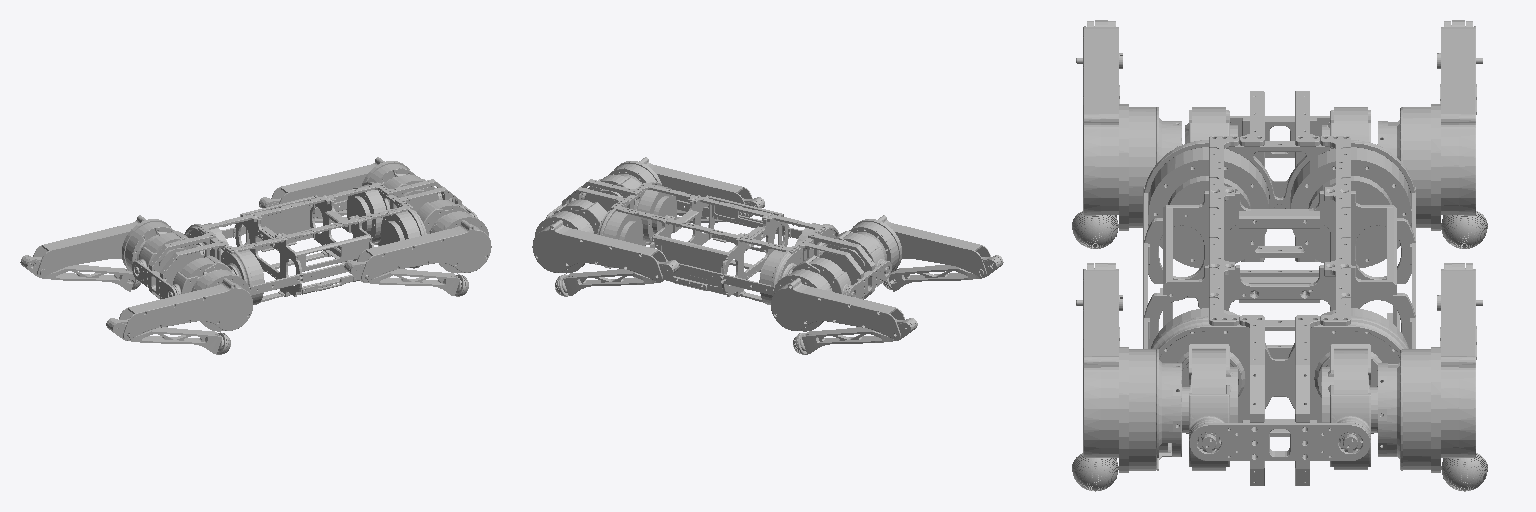
The robot description file, URDF, robot "xiaotianhybrid":
<?xml version="1.0" encoding="utf-8"?>
<!-- This URDF was automatically created by SolidWorks to URDF Exporter! Originally created by [author] ([email redacted]) 
     Commit Version: 1.6.0-1-g15f4949  Build Version: 1.6.7594.29634
     For more information, please see http://wiki.ros.org/sw_urdf_exporter -->
<robot
  name="xiaotianhybrid">
  <link
    name="root_link">
    <visual>
      <origin
        xyz="0 0 0"
        rpy="0 0 0" />
      <geometry>
        <mesh
          filename="../meshes/base_link.dae" />
      </geometry>
      <material
        name="">
        <color
          rgba="0.75294 0.75294 0.75294 1" />
      </material>
    </visual>
  </link>
  <joint name="floating_base" type="fixed">
    <origin rpy="0 0 0" xyz="0 0 0"/>
    <parent link="root_link"/>
    <child link="base_link"/>
  </joint>
  <link
    name="base_link">
    <inertial>
      <origin
        xyz="-7.7053E-05 7.7376E-05 0.00036296"
        rpy="0 0 0" />
      <mass
        value="9.75" />
      <inertia
        ixx="0.06748912868"
        ixy="-3.52976E-06"
        ixz="-3.127057E-05"
        iyy="0.37865856173"
        iyz="-1.255037E-04"
        izz="0.42080290194" />
    </inertial>
    <visual>
      <origin
        xyz="0 0 0"
        rpy="0 0 0" />
      <geometry>
        <mesh
          filename="../meshes/base_link.dae" />
      </geometry>
      <material
        name="">
        <color
          rgba="0.75294 0.75294 0.75294 1" />
      </material>
    </visual>
    <collision>
      <origin
        xyz="0 0 0"
        rpy="0 0 0" />
      <geometry>
        <mesh
          filename="../meshes/base_link.dae" />
      </geometry>
    </collision>
  </link>
  <link
    name="fl_hip">
    <inertial>
      <origin
        xyz="-0.0016893 -0.0029367 -3.0057E-06"
        rpy="0 0 0" />
      <mass
        value="1.54" />
      <inertia
        ixx="1.52680337E-03"
        ixy="-1.029307E-05"
        ixz="1.6398E-07"
        iyy="3.15232762E-03"
        iyz="7.688E-08"
        izz="2.12898618E-03" />
    </inertial>
    <visual>
      <origin
        xyz="0 0 0"
        rpy="0 0 0" />
      <geometry>
        <mesh
          filename="../meshes/fl_hip.dae" />
      </geometry>
      <material
        name="">
        <color
          rgba="0.75294 0.75294 0.75294 1" />
      </material>
    </visual>
    <collision>
      <origin
        xyz="0 0 0"
        rpy="0 0 0" />
      <geometry>
        <mesh
          filename="../meshes/fl_hip.dae" />
      </geometry>
    </collision>
  </link>
  <joint
    name="fl_hip_roll"
    type="revolute">
    <origin
      xyz="0.2836 0.07 0"
      rpy="0 0 0" />
    <parent
      link="base_link" />
    <child
      link="fl_hip" />
    <axis
      xyz="1 0 0" />
    <limit
      lower="-1.57"
      upper="1.57"
      effort="60"
      velocity="50" />
  </joint>
  <link
    name="fl_thigh">
    <inertial>
      <origin
        xyz="-0.028316 -0.031071 0.0039275"
        rpy="0 0 0" />
      <mass
        value="2.36" />
      <inertia
        ixx="3.46290856E-03"
        ixy="-2.26995497E-03"
        ixz="-1.17364736E-03"
        iyy="0.01481869313"
        iyz="3.379065E-04"
        izz="0.01458648397" />
    </inertial>
    <visual>
      <origin
        xyz="0 0 0"
        rpy="0 0 0" />
      <geometry>
        <mesh
          filename="../meshes/fl_thigh.dae" />
      </geometry>
      <material
        name="">
        <color
          rgba="0.75294 0.75294 0.75294 1" />
      </material>
    </visual>
    <collision>
      <origin
        xyz="0 0 0"
        rpy="0 0 0" />
      <geometry>
        <mesh
          filename="../meshes/fl_thigh.dae" />
      </geometry>
    </collision>
  </link>
  <joint
    name="fl_hip_pitch"
    type="revolute">
    <origin
      xyz="0 0.1068 0"
      rpy="0 0 0" />
    <parent
      link="fl_hip" />
    <child
      link="fl_thigh" />
    <axis
      xyz="0 1 0" />
    <limit
      lower="-3.14159"
      upper="0"
      effort="60"
      velocity="50" />
  </joint>
  <link
    name="fl_calf">
    <inertial>
      <origin
        xyz="0.093372 -0.00013169 -0.028991"
        rpy="0 0 0" />
      <mass
        value="0.34" />
      <inertia
        ixx="3.0269843E-04"
        ixy="-1.338546E-05"
        ixz="-7.1298417E-04"
        iyy="2.3845227E-03"
        iyz="5.1477E-06"
        izz="2.13302968E-03" />
    </inertial>
    <visual>
      <origin
        xyz="0 0 0"
        rpy="0 0 0" />
      <geometry>
        <mesh
          filename="../meshes/fl_calf.dae" />
      </geometry>
      <material
        name="">
        <color
          rgba="0.75294 0.75294 0.75294 1" />
      </material>
    </visual>
    <collision>
      <origin
        xyz="0 0 0"
        rpy="0 0 0" />
      <geometry>
        <mesh
          filename="../meshes/fl_calf.dae" />
      </geometry>
    </collision>
  </link>
  <joint
    name="fl_knee"
    type="revolute">
    <origin
      xyz="-0.25 0 0"
      rpy="0 0 0" />
    <parent
      link="fl_thigh" />
    <child
      link="fl_calf" />
    <axis
      xyz="0 1 0" />
    <limit
      lower="0"
      upper="2"
      effort="60"
      velocity="50" />
  </joint>
  <link
    name="fl_wheel">
    <inertial>
      <origin
        xyz="0.0058473 2.1017E-05 -0.0021938"
        rpy="0 0 0" />
      <mass
        value="0.04" />
      <inertia
        ixx="7.55709E-06"
        ixy="-1.483E-08"
        ixz="-5.444E-08"
        iyy="7.92521E-06"
        iyz="5.58E-09"
        izz="7.68177E-06" />
    </inertial>
    <visual>
      <origin
        xyz="0 0 0"
        rpy="0 0 0" />
      <geometry>
        <mesh
          filename="../meshes/fl_wheel.dae" />
      </geometry>
      <material
        name="">
        <color
          rgba="0.75294 0.75294 0.75294 1" />
      </material>
    </visual>
    <collision>
      <origin
        xyz="0 0 0"
        rpy="0 0 0" />
      <geometry>
        <mesh
          filename="../meshes/fl_wheel.dae" />
      </geometry>
    </collision>
  </link>
  <joint
    name="fl_wheel"
    type="fixed">
    <origin
      xyz="0.22123 0.005936 -0.074762"
      rpy="0 0 0" />
    <parent
      link="fl_calf" />
    <child
      link="fl_wheel" />
    <axis
      xyz="0 0 0" />
  </joint>
  <link
    name="fr_hip">
    <inertial>
      <origin
        xyz="-0.0016893 0.0029367 3.0058E-06"
        rpy="0 0 0" />
      <mass
        value="1.54" />
      <inertia
        ixx="1.52680337E-03"
        ixy="1.029307E-05"
        ixz="-1.6398E-07"
        iyy="3.15232762E-03"
        iyz="7.688E-08"
        izz="2.12898618E-03" />
    </inertial>
    <visual>
      <origin
        xyz="0 0 0"
        rpy="0 0 0" />
      <geometry>
        <mesh
          filename="../meshes/fr_hip.dae" />
      </geometry>
      <material
        name="">
        <color
          rgba="0.75294 0.75294 0.75294 1" />
      </material>
    </visual>
    <collision>
      <origin
        xyz="0 0 0"
        rpy="0 0 0" />
      <geometry>
        <mesh
          filename="../meshes/fr_hip.dae" />
      </geometry>
    </collision>
  </link>
  <joint
    name="fr_hip_roll"
    type="revolute">
    <origin
      xyz="0.2836 -0.07 0"
      rpy="0 0 0" />
    <parent
      link="base_link" />
    <child
      link="fr_hip" />
    <axis
      xyz="1 0 0" />
    <limit
      lower="-1.57"
      upper="1.57"
      effort="60"
      velocity="50" />
  </joint>
  <link
    name="fr_thigh">
    <inertial>
      <origin
        xyz="-0.028482 0.031071 0.0041762"
        rpy="0 0 0" />
      <mass
        value="2.36" />
      <inertia
        ixx="3.46575714E-03"
        ixy="2.25594763E-03"
        ixz="-1.14504693E-03"
        iyy="0.0147819027"
        iyz="-3.1700791E-04"
        izz="0.0145468491" />
    </inertial>
    <visual>
      <origin
        xyz="0 0 0"
        rpy="0 0 0" />
      <geometry>
        <mesh
          filename="../meshes/fr_thigh.dae" />
      </geometry>
      <material
        name="">
        <color
          rgba="0.75294 0.75294 0.75294 1" />
      </material>
    </visual>
    <collision>
      <origin
        xyz="0 0 0"
        rpy="0 0 0" />
      <geometry>
        <mesh
          filename="../meshes/fr_thigh.dae" />
      </geometry>
    </collision>
  </link>
  <joint
    name="fr_hip_pitch"
    type="revolute">
    <origin
      xyz="0 -0.1068 0"
      rpy="0 0 0" />
    <parent
      link="fr_hip" />
    <child
      link="fr_thigh" />
    <axis
      xyz="0 1 0" />
    <limit
      lower="-3.14159"
      upper="0"
      effort="60"
      velocity="50" />
  </joint>
  <link
    name="fr_calf">
    <inertial>
      <origin
        xyz="0.093372 0.00033168 -0.028991"
        rpy="0 0 0" />
      <mass
        value="0.34" />
      <inertia
        ixx="3.0269842E-04"
        ixy="-1.33854E-05"
        ixz="-7.1298419E-04"
        iyy="2.38452279E-03"
        iyz="5.14768E-06"
        izz="2.13302979E-03" />
    </inertial>
    <visual>
      <origin
        xyz="0 0 0"
        rpy="0 0 0" />
      <geometry>
        <mesh
          filename="../meshes/fr_calf.dae" />
      </geometry>
      <material
        name="">
        <color
          rgba="0.75294 0.75294 0.75294 1" />
      </material>
    </visual>
    <collision>
      <origin
        xyz="0 0 0"
        rpy="0 0 0" />
      <geometry>
        <mesh
          filename="../meshes/fr_calf.dae" />
      </geometry>
    </collision>
  </link>
  <joint
    name="fr_knee"
    type="revolute">
    <origin
      xyz="-0.25 0 0"
      rpy="0 0 0" />
    <parent
      link="fr_thigh" />
    <child
      link="fr_calf" />
    <axis
      xyz="0 1 0" />
    <limit
      lower="0"
      upper="2"
      effort="60"
      velocity="50" />
  </joint>
  <link
    name="fr_wheel">
    <inertial>
      <origin
        xyz="0.0058473 -2.1023E-05 -0.0021939"
        rpy="0 0 0" />
      <mass
        value="0.04" />
      <inertia
        ixx="7.55709E-06"
        ixy="1.484E-08"
        ixz="-5.444E-08"
        iyy="7.92521E-06"
        iyz="-5.56E-09"
        izz="7.68177E-06" />
    </inertial>
    <visual>
      <origin
        xyz="0 0 0"
        rpy="0 0 0" />
      <geometry>
        <mesh
          filename="../meshes/fr_wheel.dae" />
      </geometry>
      <material
        name="">
        <color
          rgba="0.75294 0.75294 0.75294 1" />
      </material>
    </visual>
    <collision>
      <origin
        xyz="0 0 0"
        rpy="0 0 0" />
      <geometry>
        <mesh
          filename="../meshes/fr_wheel.dae" />
      </geometry>
    </collision>
  </link>
  <joint
    name="fr_wheel"
    type="fixed">
    <origin
      xyz="0.22123 -0.005736 -0.074762"
      rpy="0 0 0" />
    <parent
      link="fr_calf" />
    <child
      link="fr_wheel" />
    <axis
      xyz="0 0 0" />
  </joint>
  <link
    name="rl_hip">
    <inertial>
      <origin
        xyz="0.0016893 -0.0029367 3.0056E-06"
        rpy="0 0 0" />
      <mass
        value="1.54" />
      <inertia
        ixx="1.52680337E-03"
        ixy="1.029307E-05"
        ixz="1.6398E-07"
        iyy="3.15232762E-03"
        iyz="-7.688E-08"
        izz="2.12898618E-03" />
    </inertial>
    <visual>
      <origin
        xyz="0 0 0"
        rpy="0 0 0" />
      <geometry>
        <mesh
          filename="../meshes/rl_hip.dae" />
      </geometry>
      <material
        name="">
        <color
          rgba="0.75294 0.75294 0.75294 1" />
      </material>
    </visual>
    <collision>
      <origin
        xyz="0 0 0"
        rpy="0 0 0" />
      <geometry>
        <mesh
          filename="../meshes/rl_hip.dae" />
      </geometry>
    </collision>
  </link>
  <joint
    name="rl_hip_roll"
    type="revolute">
    <origin
      xyz="-0.2836 0.07 0"
      rpy="0 0 0" />
    <parent
      link="base_link" />
    <child
      link="rl_hip" />
    <axis
      xyz="1 0 0" />
    <limit
      lower="-1.57"
      upper="1.57"
      effort="60"
      velocity="50" />
  </joint>
  <link
    name="rl_thigh">
    <inertial>
      <origin
        xyz="-0.028316 -0.031071 0.0039275"
        rpy="0 0 0" />
      <mass
        value="2.36" />
      <inertia
        ixx="3.46290856E-03"
        ixy="-2.26995497E-03"
        ixz="-1.17364736E-03"
        iyy="0.01481869313"
        iyz="3.379065E-04"
        izz="0.01458648397" />
    </inertial>
    <visual>
      <origin
        xyz="0 0 0"
        rpy="0 0 0" />
      <geometry>
        <mesh
          filename="../meshes/rl_thigh.dae" />
      </geometry>
      <material
        name="">
        <color
          rgba="0.75294 0.75294 0.75294 1" />
      </material>
    </visual>
    <collision>
      <origin
        xyz="0 0 0"
        rpy="0 0 0" />
      <geometry>
        <mesh
          filename="../meshes/rl_thigh.dae" />
      </geometry>
    </collision>
  </link>
  <joint
    name="rl_hip_pitch"
    type="revolute">
    <origin
      xyz="0 0.1068 0"
      rpy="0 0 0" />
    <parent
      link="rl_hip" />
    <child
      link="rl_thigh" />
    <axis
      xyz="0 1 0" />
    <limit
      lower="-3.14159"
      upper="0"
      effort="60"
      velocity="50" />
  </joint>
  <link
    name="rl_calf">
    <inertial>
      <origin
        xyz="0.093372 -0.00033169 -0.028991"
        rpy="0 0 0" />
      <mass
        value="0.34" />
      <inertia
        ixx="3.0269843E-04"
        ixy="-1.338546E-05"
        ixz="-7.1298417E-04"
        iyy="2.3845227E-03"
        iyz="5.1477E-06"
        izz="2.13302968E-03" />
    </inertial>
    <visual>
      <origin
        xyz="0 0 0"
        rpy="0 0 0" />
      <geometry>
        <mesh
          filename="../meshes/rl_calf.dae" />
      </geometry>
      <material
        name="">
        <color
          rgba="0.75294 0.75294 0.75294 1" />
      </material>
    </visual>
    <collision>
      <origin
        xyz="0 0 0"
        rpy="0 0 0" />
      <geometry>
        <mesh
          filename="../meshes/rl_calf.dae" />
      </geometry>
    </collision>
  </link>
  <joint
    name="rl_knee"
    type="revolute">
    <origin
      xyz="-0.25 0 0"
      rpy="0 0 0" />
    <parent
      link="rl_thigh" />
    <child
      link="rl_calf" />
    <axis
      xyz="0 1 0" />
    <limit
      lower="0"
      upper="2"
      effort="60"
      velocity="50" />
  </joint>
  <link
    name="rl_wheel">
    <inertial>
      <origin
        xyz="0.0058473 2.1017E-05 -0.0021938"
        rpy="0 0 0" />
      <mass
        value="0.04" />
      <inertia
        ixx="7.55709E-06"
        ixy="-1.483E-08"
        ixz="-5.444E-08"
        iyy="7.92521E-06"
        iyz="5.58E-09"
        izz="7.68177E-06" />
    </inertial>
    <visual>
      <origin
        xyz="0 0 0"
        rpy="0 0 0" />
      <geometry>
        <mesh
          filename="../meshes/rl_wheel.dae" />
      </geometry>
      <material
        name="">
        <color
          rgba="0.75294 0.75294 0.75294 1" />
      </material>
    </visual>
    <collision>
      <origin
        xyz="0 0 0"
        rpy="0 0 0" />
      <geometry>
        <mesh
          filename="../meshes/rl_wheel.dae" />
      </geometry>
    </collision>
  </link>
  <joint
    name="rl_wheel"
    type="fixed">
    <origin
      xyz="0.22123 0.005736 -0.074762"
      rpy="0 0 0" />
    <parent
      link="rl_calf" />
    <child
      link="rl_wheel" />
    <axis
      xyz="0 0 0" />
  </joint>
  <link
    name="rr_hip">
    <inertial>
      <origin
        xyz="0.0016893 0.0018904 3.0058E-06"
        rpy="0 0 0" />
      <mass
        value="1.54" />
      <inertia
        ixx="1.53532914E-03"
        ixy="-3.47255E-06"
        ixz="1.6398E-07"
        iyy="3.15232762E-03"
        iyz="-1.0138E-07"
        izz="2.13751195E-03" />
    </inertial>
    <visual>
      <origin
        xyz="0 0 0"
        rpy="0 0 0" />
      <geometry>
        <mesh
          filename="../meshes/rr_hip.dae" />
      </geometry>
      <material
        name="">
        <color
          rgba="0.75294 0.75294 0.75294 1" />
      </material>
    </visual>
    <collision>
      <origin
        xyz="0 0 0"
        rpy="0 0 0" />
      <geometry>
        <mesh
          filename="../meshes/rr_hip.dae" />
      </geometry>
    </collision>
  </link>
  <joint
    name="rr_hip_roll"
    type="revolute">
    <origin
      xyz="-0.2836 -0.07 0"
      rpy="0 0 0" />
    <parent
      link="base_link" />
    <child
      link="rr_hip" />
    <axis
      xyz="1 0 0" />
    <limit
      lower="-1.57"
      upper="1.57"
      effort="60"
      velocity="50" />
  </joint>
  <link
    name="rr_thigh">
    <inertial>
      <origin
        xyz="-0.028482 0.031071 0.0041762"
        rpy="0 0 0" />
      <mass
        value="2.36" />
      <inertia
        ixx="3.46575714E-03"
        ixy="2.25594763E-03"
        ixz="-1.14504693E-03"
        iyy="0.0147819027"
        iyz="-3.1700791E-04"
        izz="0.01454684915" />
    </inertial>
    <visual>
      <origin
        xyz="0 0 0"
        rpy="0 0 0" />
      <geometry>
        <mesh
          filename="../meshes/rr_thigh.dae" />
      </geometry>
      <material
        name="">
        <color
          rgba="0.75294 0.75294 0.75294 1" />
      </material>
    </visual>
    <collision>
      <origin
        xyz="0 0 0"
        rpy="0 0 0" />
      <geometry>
        <mesh
          filename="../meshes/rr_thigh.dae" />
      </geometry>
    </collision>
  </link>
  <joint
    name="rr_hip_pitch"
    type="revolute">
    <origin
      xyz="0 -0.1068 0"
      rpy="0 0 0" />
    <parent
      link="rr_hip" />
    <child
      link="rr_thigh" />
    <axis
      xyz="0 1 0" />
    <limit
      lower="-3.14159"
      upper="0"
      effort="60"
      velocity="50" />
  </joint>
  <link
    name="rr_calf">
    <inertial>
      <origin
        xyz="0.093372 0.00033168 -0.028991"
        rpy="0 0 0" />
      <mass
        value="0.34" />
      <inertia
        ixx="3.0269842E-04"
        ixy="1.33854E-05"
        ixz="-7.1298419E-04"
        iyy="2.38452279E-03"
        iyz="-5.14768E-06"
        izz="2.13302979E-03" />
    </inertial>
    <visual>
      <origin
        xyz="0 0 0"
        rpy="0 0 0" />
      <geometry>
        <mesh
          filename="../meshes/rr_calf.dae" />
      </geometry>
      <material
        name="">
        <color
          rgba="0.75294 0.75294 0.75294 1" />
      </material>
    </visual>
    <collision>
      <origin
        xyz="0 0 0"
        rpy="0 0 0" />
      <geometry>
        <mesh
          filename="../meshes/rr_calf.dae" />
      </geometry>
    </collision>
  </link>
  <joint
    name="rr_knee"
    type="revolute">
    <origin
      xyz="-0.25 0 0"
      rpy="0 0 0" />
    <parent
      link="rr_thigh" />
    <child
      link="rr_calf" />
    <axis
      xyz="0 1 0" />
    <limit
      lower="0"
      upper="2"
      effort="60"
      velocity="50" />
  </joint>
  <link
    name="rr_wheel">
    <inertial>
      <origin
        xyz="0.0058473 -2.1023E-05 -0.0021939"
        rpy="0 0 0" />
      <mass
        value="0.04" />
      <inertia
        ixx="7.55709E-06"
        ixy="1.484E-08"
        ixz="-5.444E-08"
        iyy="7.92521E-06"
        iyz="-5.58E-09"
        izz="7.68177E-06" />
    </inertial>
    <visual>
      <origin
        xyz="0 0 0"
        rpy="0 0 0" />
      <geometry>
        <mesh
          filename="../meshes/rr_wheel.dae" />
      </geometry>
      <material
        name="">
        <color
          rgba="0.75294 0.75294 0.75294 1" />
      </material>
    </visual>
    <collision>
      <origin
        xyz="0 0 0"
        rpy="0 0 0" />
      <geometry>
        <mesh
          filename="../meshes/rr_wheel.dae" />
      </geometry>
    </collision>
  </link>
  <joint
    name="rr_wheel"
    type="fixed">
    <origin
      xyz="0.22123 -0.005736 -0.074762"
      rpy="0 0 0" />
    <parent
      link="rr_calf" />
    <child
      link="rr_wheel" />
    <axis
      xyz="0 0 0" />
  </joint>
</robot>

--- What the picture shows (computed from the rendered views, not written in the file) ---
3 views of the same robot in one strip: view 1: azimuth 30°, elevation 25°; view 2: azimuth 150°, elevation 25°; view 3: azimuth 270°, elevation 25° (orthographic).
Model xiaotianhybrid with 18 links and 17 joints (12 revolute, 5 fixed), rooted at root_link, posed all joints at 0.
Visible links, largest first — view 1: root_link, fr_thigh, rr_thigh, rl_thigh, fl_thigh, rr_calf, fr_calf, rl_calf, rl_hip, rr_hip, fl_hip, fr_hip; view 2: root_link, fl_thigh, rl_thigh, rr_thigh, fr_thigh, rl_calf, fl_calf, rr_calf, rr_hip, rl_hip, fr_hip, fl_hip; view 3: root_link, fr_thigh, fl_thigh, rr_thigh, rl_thigh, fr_hip, fl_hip, rr_hip, rl_hip, rl_wheel, rr_wheel, fl_wheel (+1 smaller).
Link boxes in pixels (left/top/right/bottom): root_link: left=132, top=179, right=477, bottom=304; fr_thigh: left=346, top=211, right=491, bottom=281; rr_thigh: left=108, top=269, right=252, bottom=340; rl_thigh: left=22, top=215, right=174, bottom=277; fl_thigh: left=261, top=157, right=415, bottom=207; rr_calf: left=106, top=318, right=221, bottom=354; fr_calf: left=344, top=260, right=459, bottom=295; rl_calf: left=20, top=255, right=134, bottom=291; rl_hip: left=135, top=231, right=203, bottom=284; rr_hip: left=169, top=255, right=235, bottom=296; fl_hip: left=384, top=175, right=442, bottom=211; fr_hip: left=417, top=200, right=473, bottom=233; root_link: left=546, top=179, right=891, bottom=304; fl_thigh: left=532, top=211, right=677, bottom=281; rl_thigh: left=771, top=269, right=915, bottom=340; rr_thigh: left=849, top=215, right=1001, bottom=277; fr_thigh: left=608, top=157, right=762, bottom=216; rl_calf: left=802, top=318, right=917, bottom=354; fl_calf: left=563, top=260, right=679, bottom=295; rr_calf: left=889, top=255, right=1003, bottom=291; rr_hip: left=820, top=231, right=888, bottom=284; rl_hip: left=788, top=255, right=854, bottom=296; fr_hip: left=581, top=175, right=639, bottom=211; fl_hip: left=550, top=200, right=606, bottom=233; root_link: left=1143, top=91, right=1415, bottom=485; fr_thigh: left=1076, top=263, right=1189, bottom=472; fl_thigh: left=1370, top=263, right=1482, bottom=472; rr_thigh: left=1076, top=20, right=1182, bottom=230; rl_thigh: left=1377, top=20, right=1482, bottom=230; fr_hip: left=1189, top=344, right=1237, bottom=470; fl_hip: left=1322, top=344, right=1370, bottom=469; rr_hip: left=1185, top=107, right=1237, bottom=143; rl_hip: left=1322, top=107, right=1370, bottom=142; rl_wheel: left=1441, top=211, right=1487, bottom=248; rr_wheel: left=1072, top=211, right=1118, bottom=248; fl_wheel: left=1441, top=453, right=1487, bottom=491.
Size in the robot's own frame: 0.9314 by 0.4112 by 0.1648 metres.
Meshes: 17 distinct files referenced, 18 mesh visuals loaded (17 Collada DAE).
